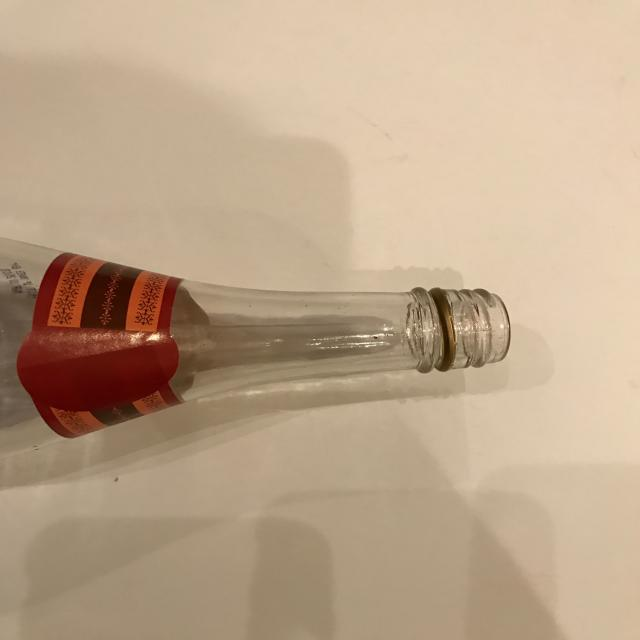Glass: (0, 229, 532, 495)
